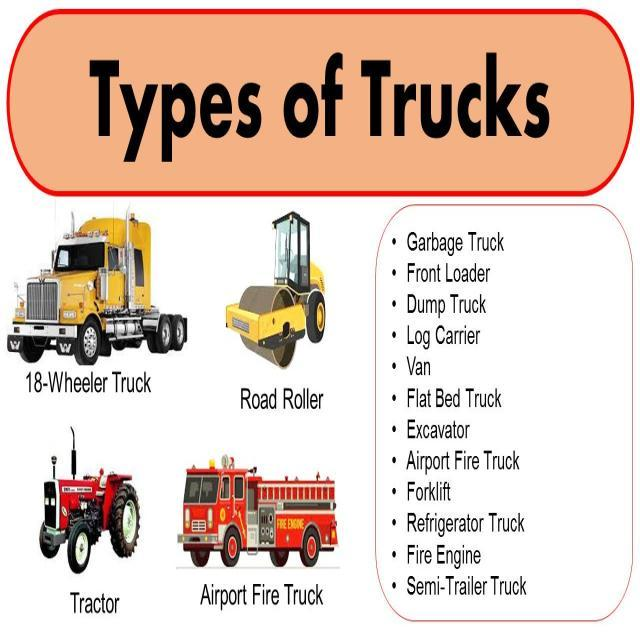traffic light: (6, 206, 188, 367), (177, 454, 338, 568)
